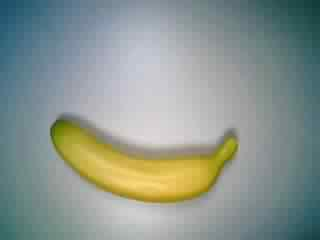banana: (47, 112, 244, 208)
